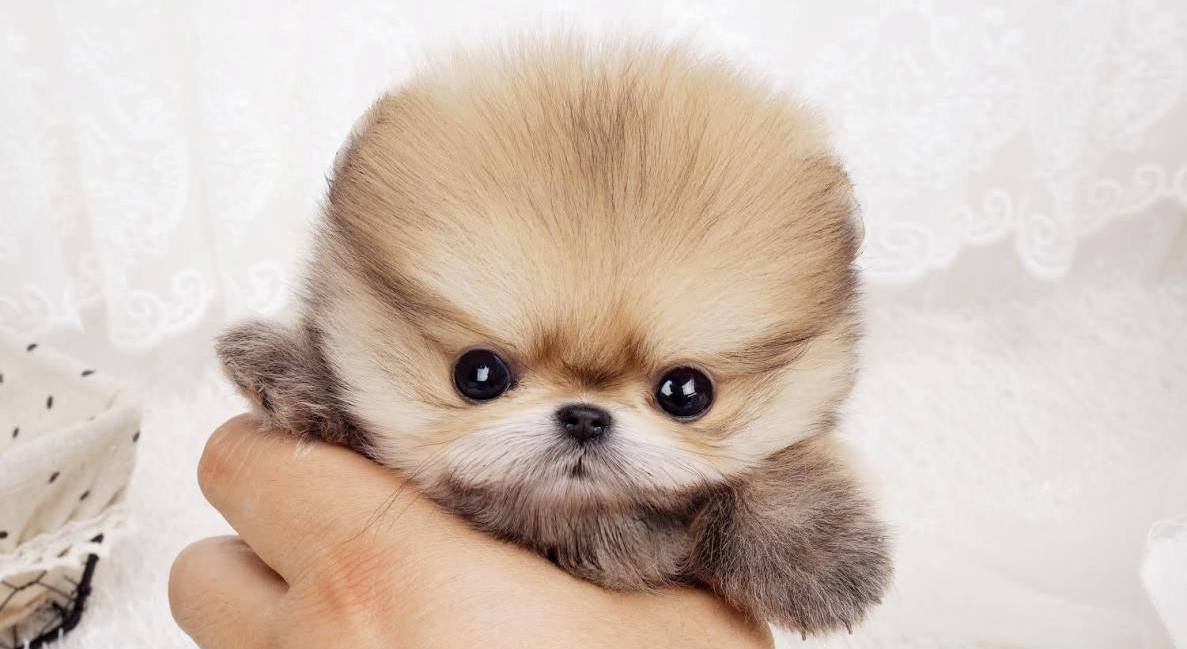pomeranian: (265, 11, 932, 649)
